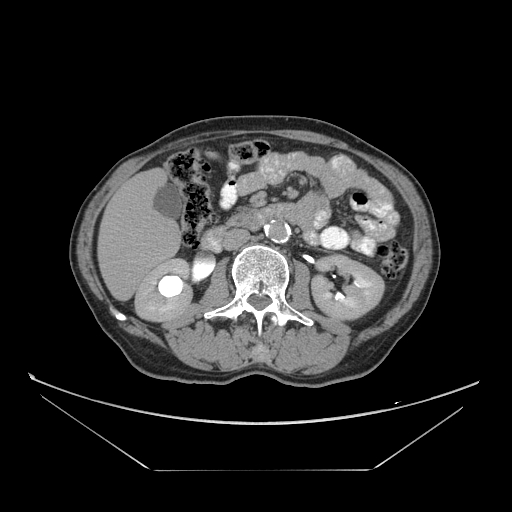left_kidney: (128, 251, 210, 325)
right_kidney: (308, 255, 387, 320)
